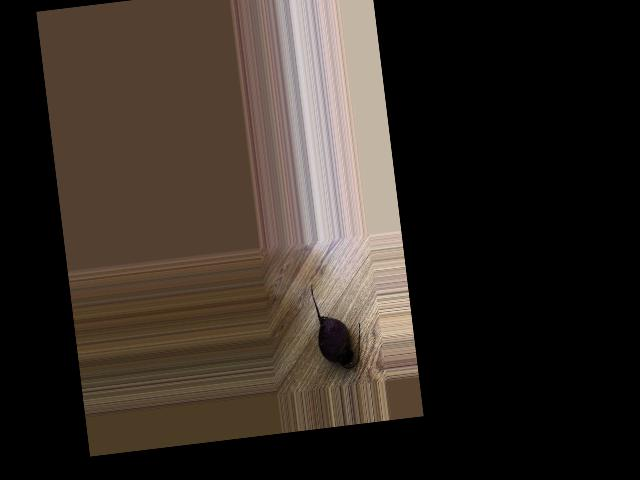beet: (310, 278, 364, 371)
